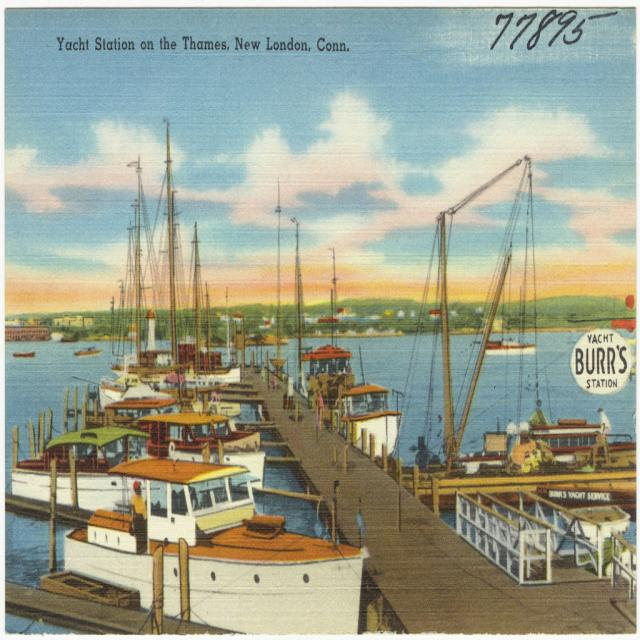Boat: (62, 447, 369, 636), (108, 110, 250, 430), (11, 424, 157, 503), (136, 416, 269, 485), (335, 359, 404, 459), (302, 322, 351, 399), (482, 342, 535, 353), (76, 342, 99, 355), (16, 350, 35, 356)
